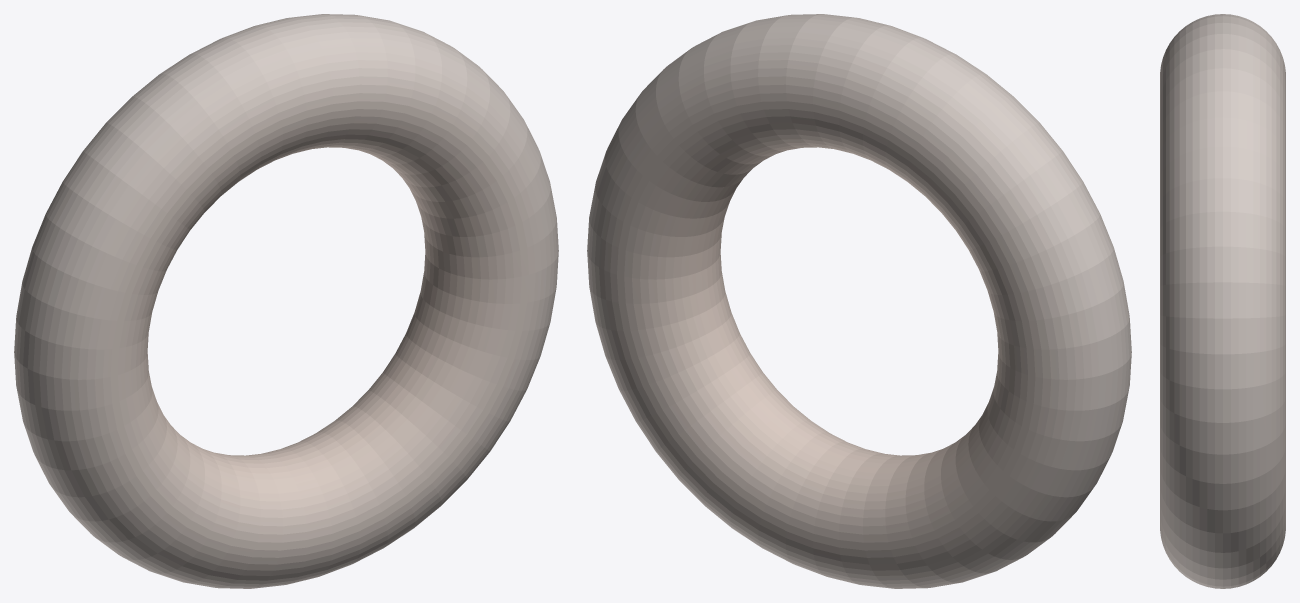
3 views of the same model, side by side, from view 1: azimuth 30°, elevation 25°; view 2: azimuth 150°, elevation 25°; view 3: azimuth 270°, elevation 25° (orthographic). The views are drawn at different scales.
Parts seen in each view (by area): view 1: world; view 2: world; view 3: world.
Part boxes in pixels (x1=…): world: x1=14, y1=14, x2=558, y2=588; world: x1=587, y1=14, x2=1131, y2=588; world: x1=1160, y1=14, x2=1285, y2=588.
Bounding box in the file's own units: 27.33 × 27.28 × 5.99.
